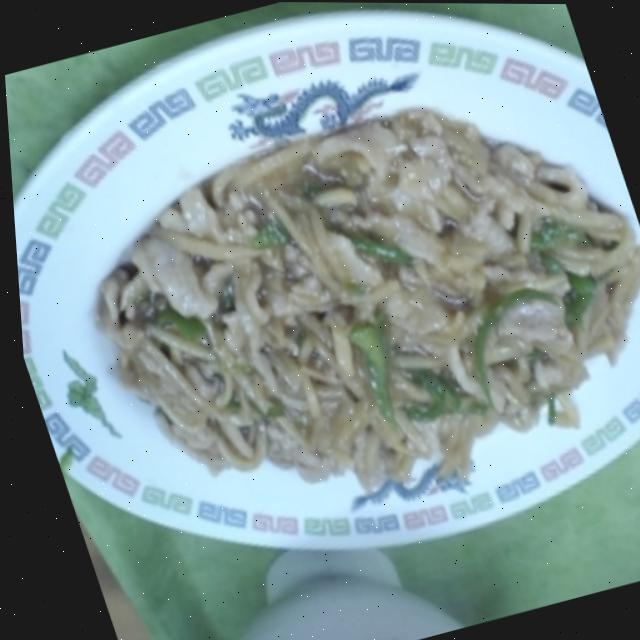牛肉菜式: (40, 69, 640, 542)
